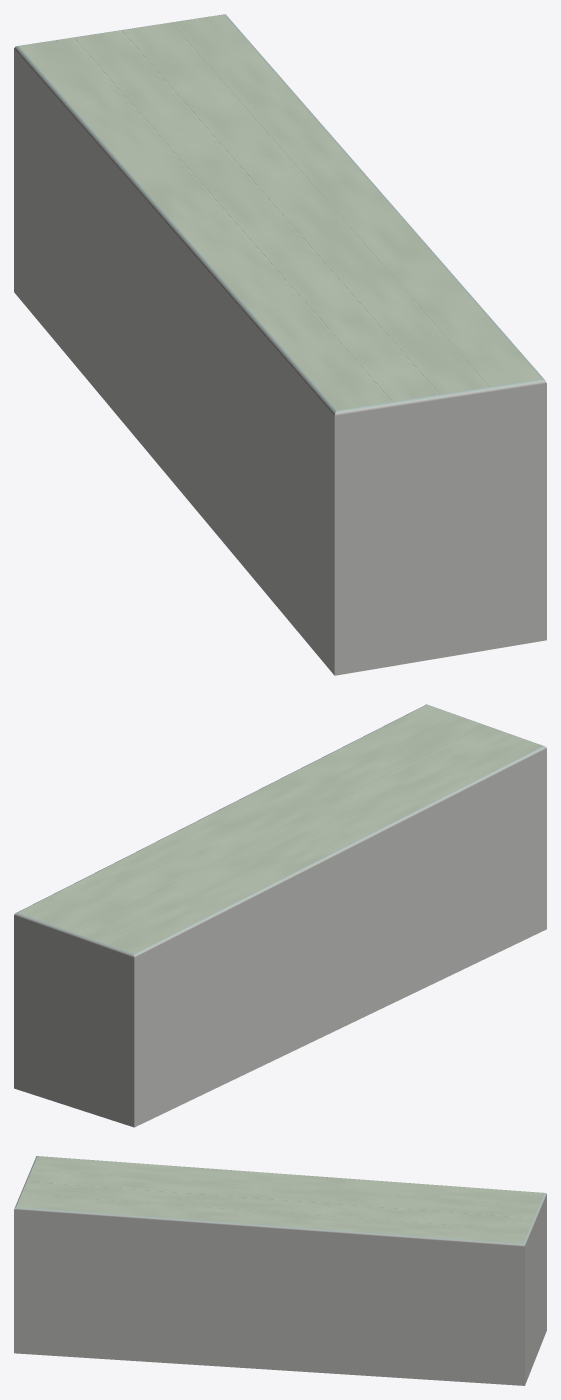
The model's file is intact.glb.
3 renders of one model, top to bottom at view 1: azimuth 30°, elevation 25°; view 2: azimuth 150°, elevation 25°; view 3: azimuth 270°, elevation 25°, orthographic. The views are drawn at different scales.
Parts seen in each view (by area): view 1: SM_tennis_Intact_00; view 2: SM_tennis_Intact_00; view 3: SM_tennis_Intact_00.
Part boxes in pixels (x1,y1,x2,y2): SM_tennis_Intact_00: (14,14,546,675); SM_tennis_Intact_00: (14,704,546,1127); SM_tennis_Intact_00: (14,1156,546,1385).
Size of the model in its own units: 0.8761 by 0.671 by 2.2.
3 materials, 1 textured.
